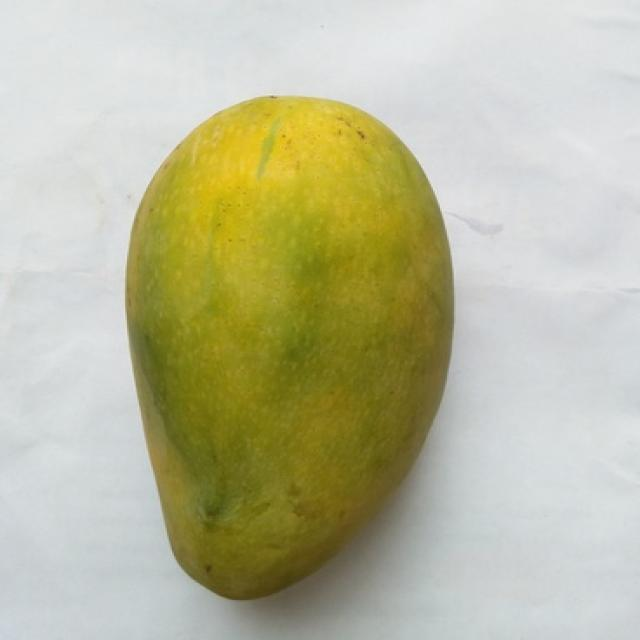Mango: (125, 98, 452, 597)
